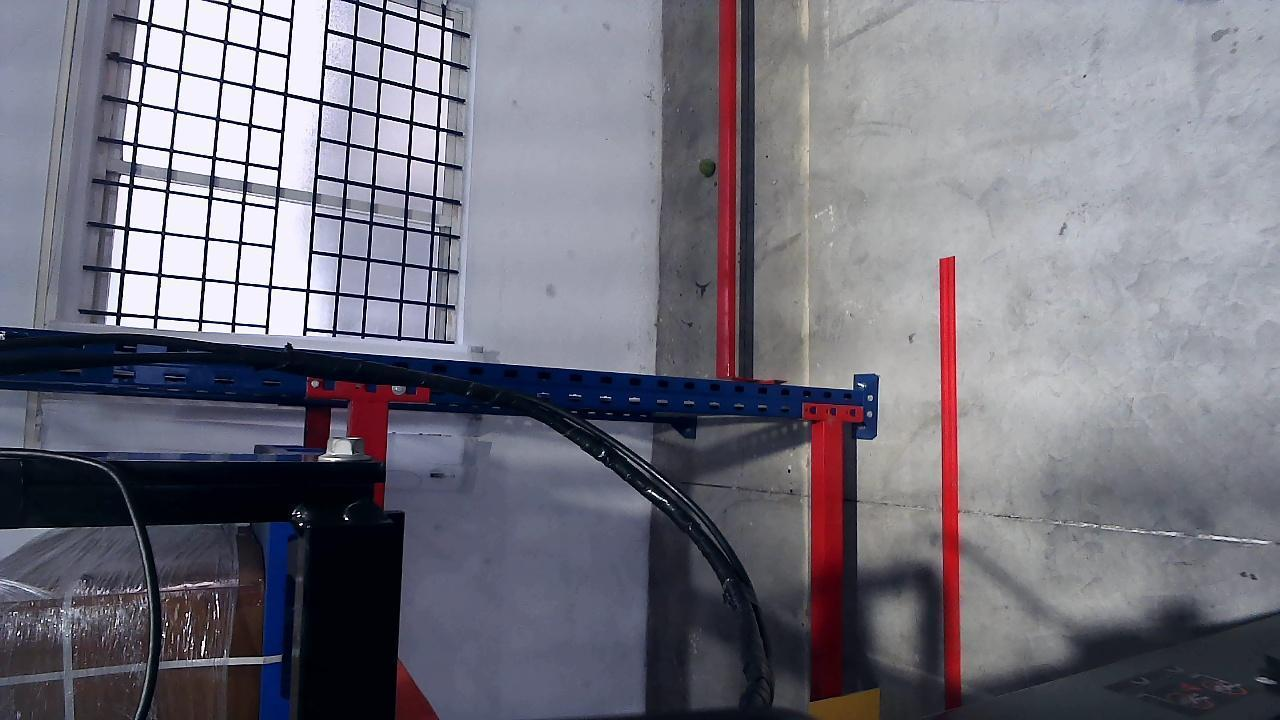red_line: (941, 256, 956, 714)
